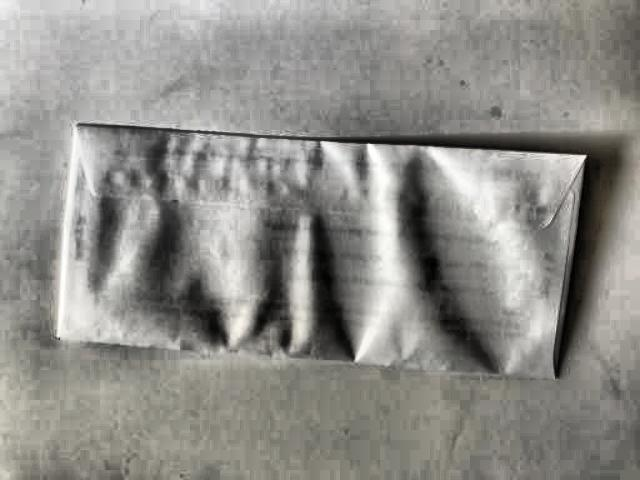Paper: (39, 107, 632, 386)
